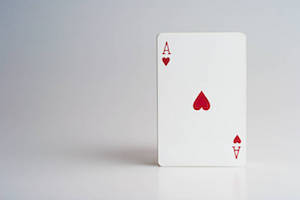AceOfHearts: (150, 26, 251, 172)
